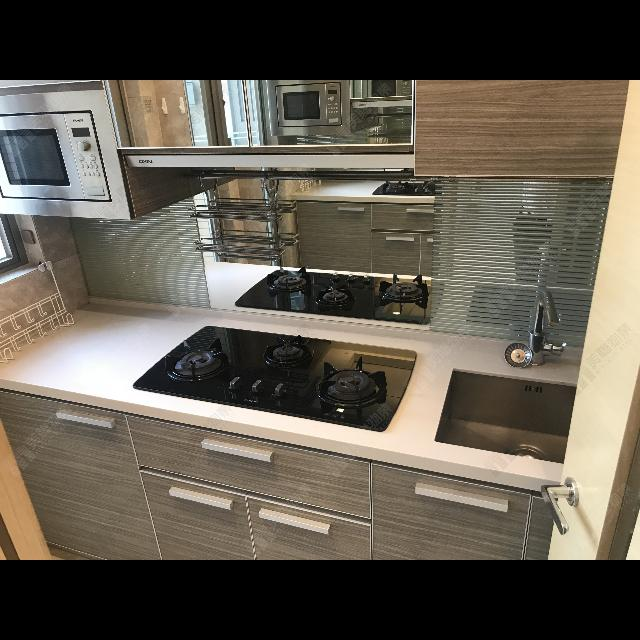Microwave: (0, 88, 132, 221)
